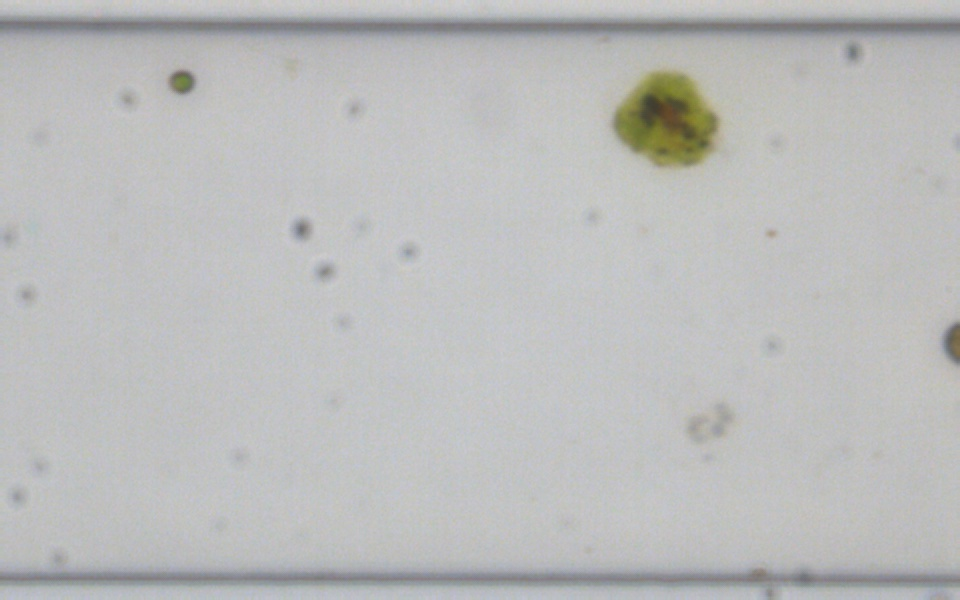Chlorella: (167, 68, 196, 94)
Haematococcus: (609, 68, 723, 170)
